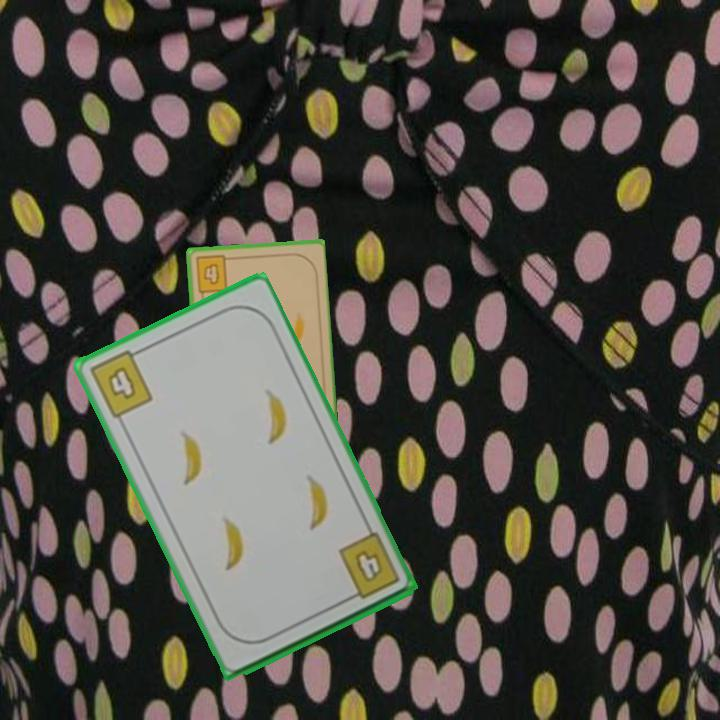4b: (85, 344, 156, 422), (334, 529, 403, 604), (192, 252, 235, 296)
